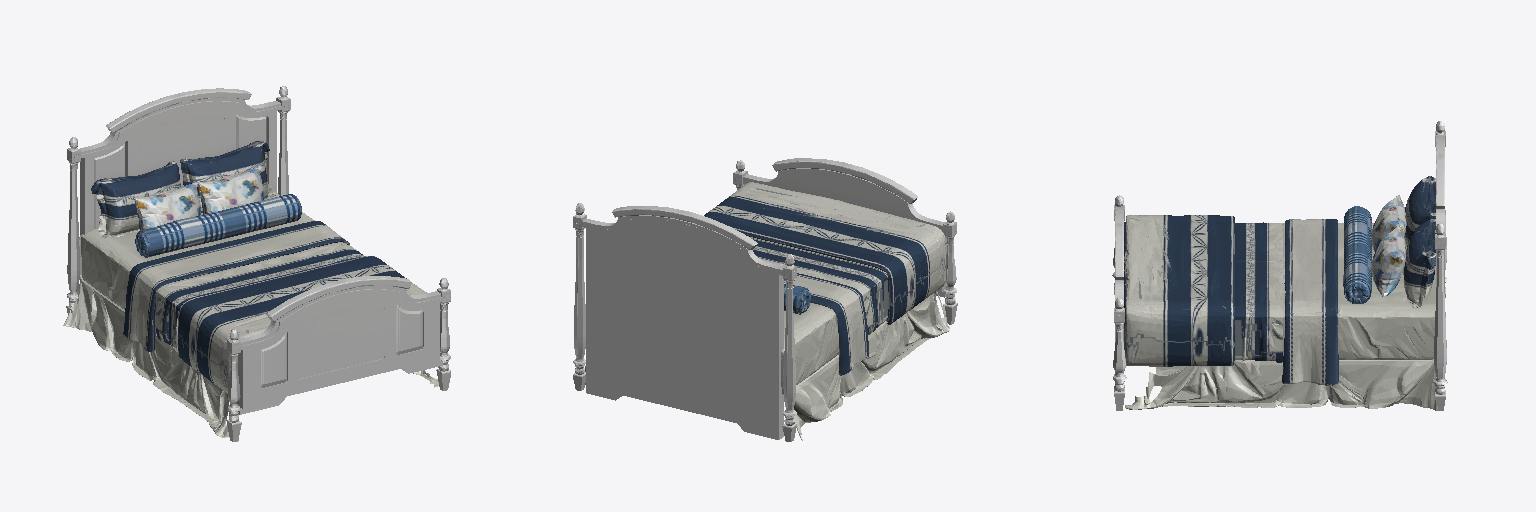
The picture shows the model from 3 angles: view 1: azimuth 30°, elevation 25°; view 2: azimuth 150°, elevation 25°; view 3: azimuth 270°, elevation 25°; orthographic projection.
Parts seen in each view (by area): view 1: solid_006, solid_001, solid_003, solid_005, solid_002, solid_004; view 2: solid_006, solid_001, solid_003, solid_002; view 3: solid_001, solid_003, solid_002, solid_006, solid_004, solid_005.
Part boxes in pixels (bbox=[...]): solid_006: bbox=[66, 86, 450, 441]; solid_001: bbox=[91, 141, 426, 393]; solid_003: bbox=[63, 190, 438, 437]; solid_005: bbox=[135, 194, 301, 257]; solid_002: bbox=[155, 244, 363, 349]; solid_004: bbox=[133, 166, 264, 230]; solid_006: bbox=[573, 158, 957, 441]; solid_001: bbox=[704, 182, 945, 375]; solid_003: bbox=[585, 291, 949, 440]; solid_002: bbox=[748, 236, 888, 334]; solid_001: bbox=[1124, 176, 1435, 385]; solid_003: bbox=[1125, 223, 1437, 410]; solid_002: bbox=[1124, 222, 1282, 362]; solid_006: bbox=[1112, 121, 1447, 410]; solid_004: bbox=[1371, 195, 1406, 296]; solid_005: bbox=[1343, 206, 1371, 303].
Size of the model in its own units: 1.34 by 1.14 by 1.71.
Materials: 1 (1 with a texture image).